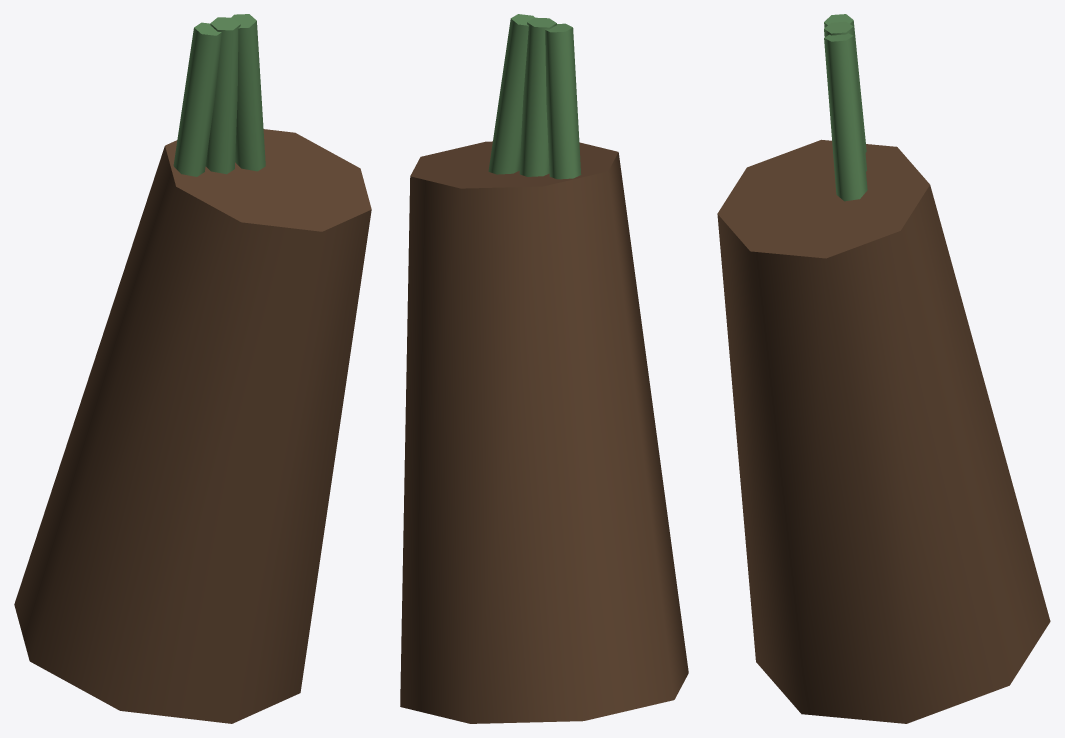
File: off_11_hunter_quiver.glb
3 renders of one model, left to right at view 1: azimuth 30°, elevation 25°; view 2: azimuth 150°, elevation 25°; view 3: azimuth 270°, elevation 25°, orthographic.
Parts seen in each view (by area): view 1: quiver, bolt_0, bolt_2, bolt_1; view 2: quiver, bolt_0, bolt_2, bolt_1; view 3: quiver, bolt_2, bolt_1.
Boxes of the visible parts, <box> form: quiver: <box>14,129,371,723</box>; bolt_0: <box>173,22,221,176</box>; bolt_2: <box>231,14,265,171</box>; bolt_1: <box>205,17,240,174</box>; quiver: <box>400,141,688,723</box>; bolt_0: <box>545,23,581,179</box>; bolt_2: <box>488,14,534,174</box>; bolt_1: <box>519,17,556,176</box>; quiver: <box>717,139,1050,723</box>; bolt_2: <box>824,33,867,201</box>; bolt_1: <box>824,21,866,171</box>.
Size of the model in its own units: 0.4037 by 0.8808 by 0.4026.
